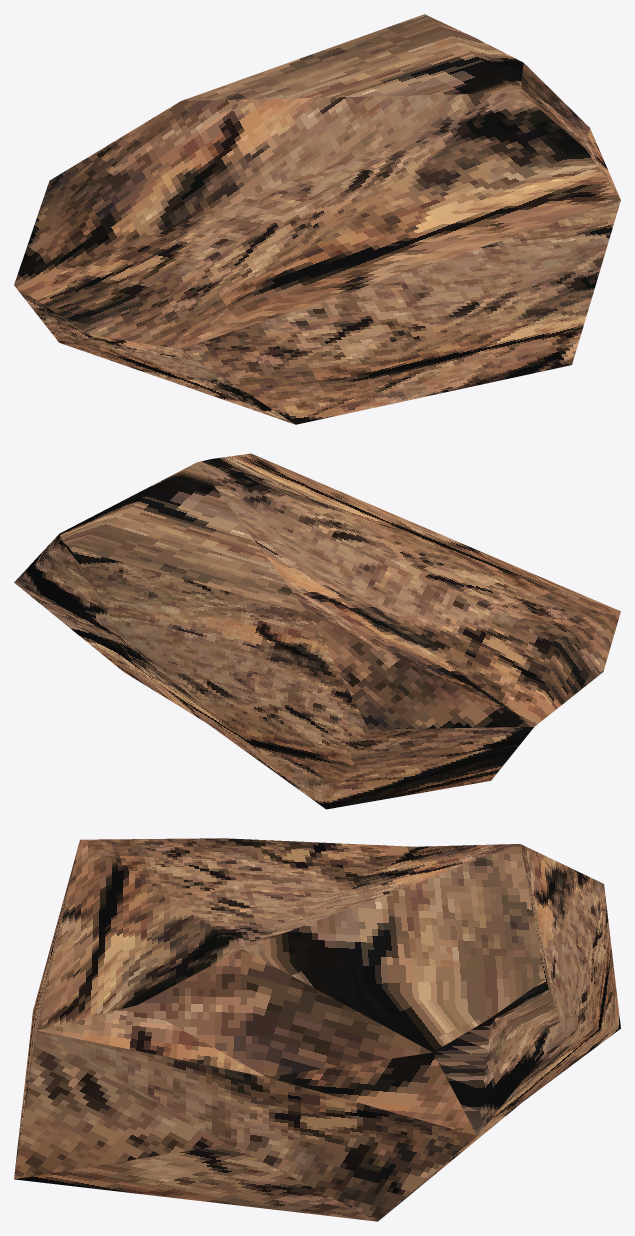
The model's file is stage-gran-p4-7.glb.
The picture shows the model from 3 angles, top to bottom: view 1: azimuth 30°, elevation 25°; view 2: azimuth 150°, elevation 25°; view 3: azimuth 270°, elevation 25°; orthographic projection. The views are drawn at different scales.
Size of the model in its own units: 19.6 by 6.96 by 14.59.
Materials: 1 (1 with a texture image).
